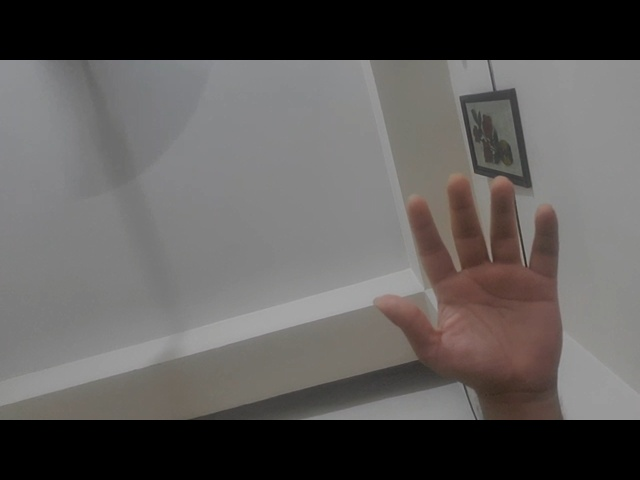Hello: (366, 163, 594, 406)
